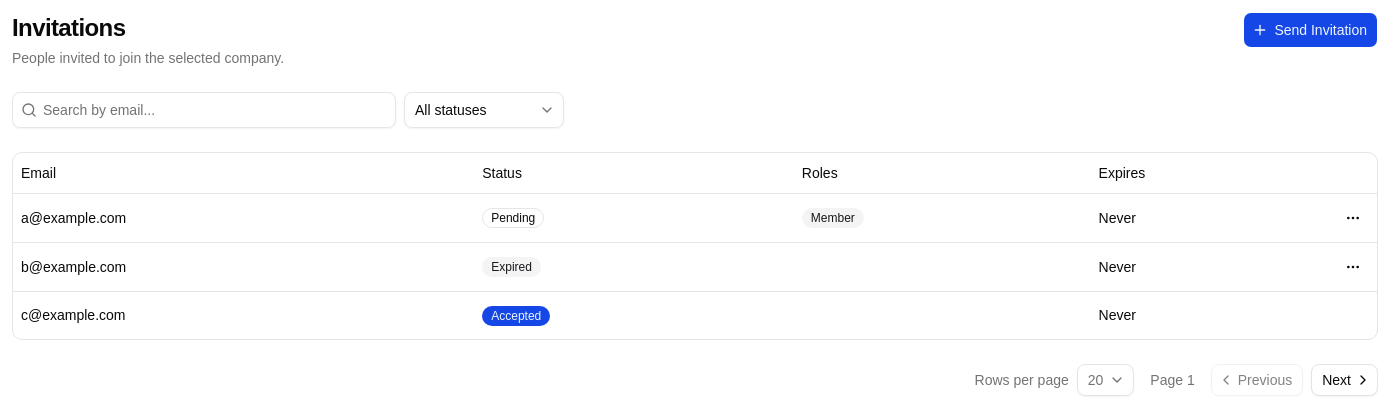
Test: InvitationsPage › offers revoking only for pending invitations
Click the button named "Actions for a@example.com" at (1353, 218), box [1337,202,1369,234]
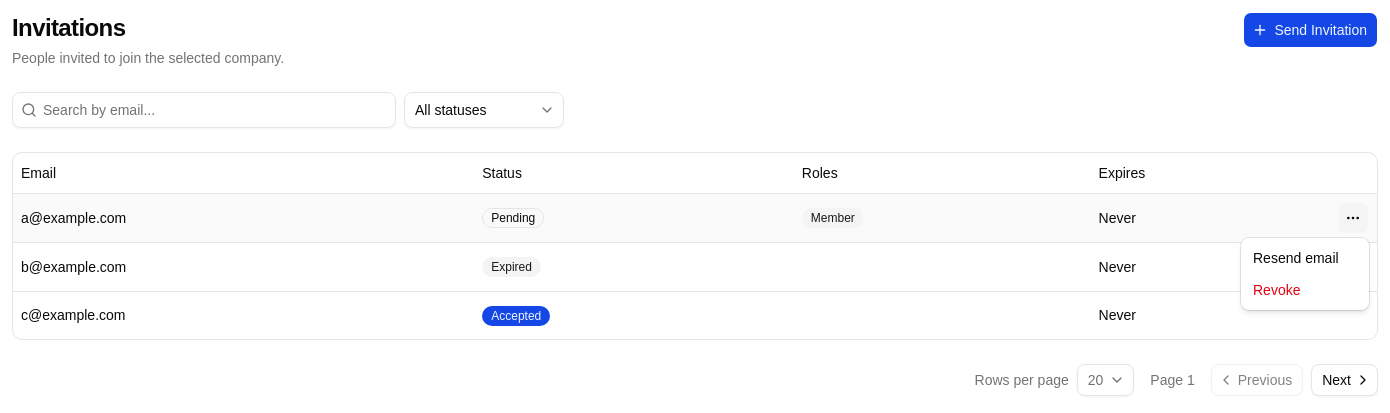
Now the menu item "Resend email" is shown, box [1253,250,1339,266]
Now the menu item "Revoke" is shown, box [1253,282,1300,298]
